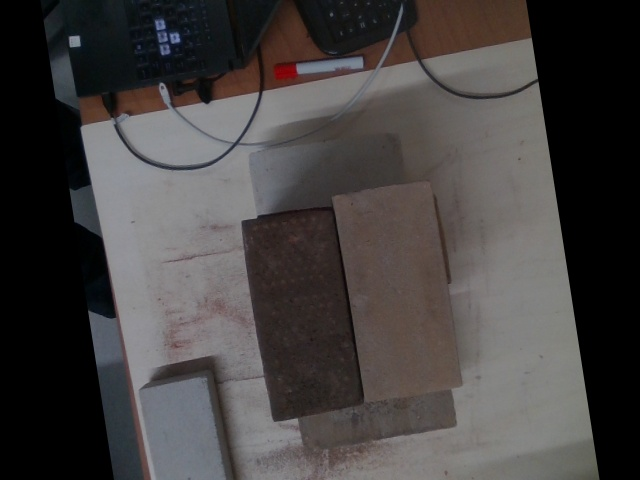brick: (334, 182, 464, 403), (242, 208, 365, 421), (138, 377, 232, 479)
